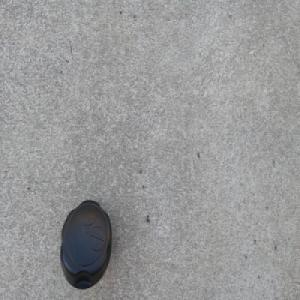FuelCap: (59, 198, 113, 292)
